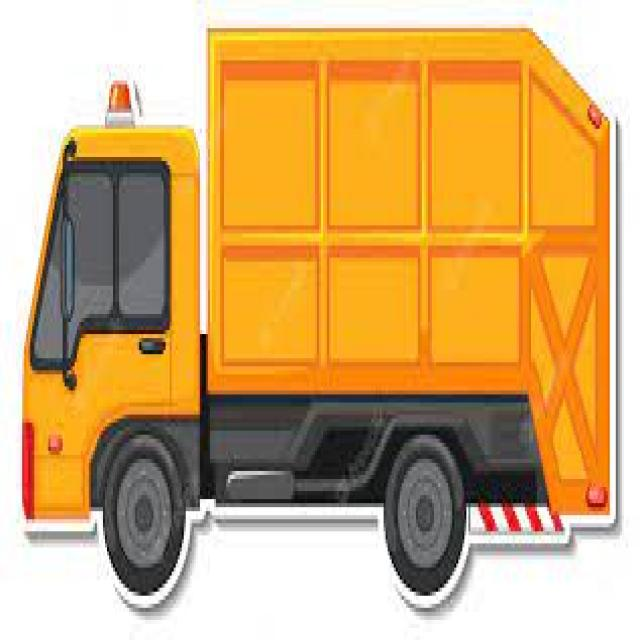dump_truck: (21, 23, 618, 607)
